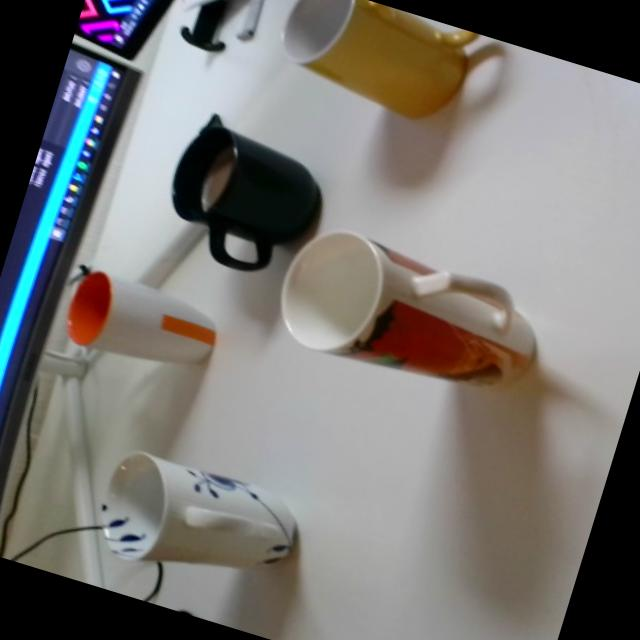Cocio Cup: (266, 0, 479, 131)
Cup: (148, 107, 336, 290)
Halloween cup: (263, 216, 550, 412)
Hand painted cup: (90, 442, 310, 606)
White Cup: (55, 262, 222, 382)
